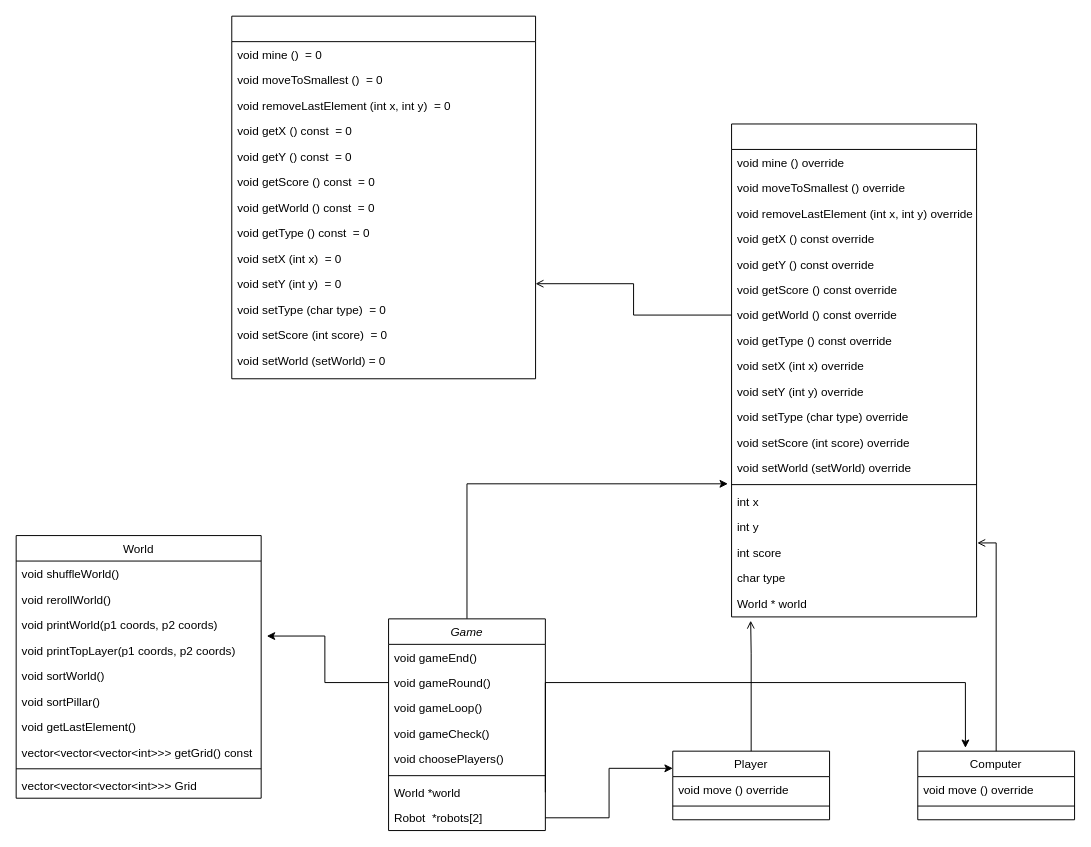
Image size: 1091x847. Some labels were removed from this diagram. Here are the shapes that lost their labels. From the top down, the box of each, then its label:
(231, 15, 536, 379): IMiner
(731, 123, 977, 617): Robot
